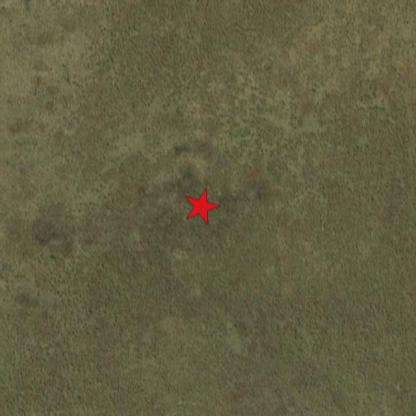T: (193, 198, 205, 208)
star: (184, 187, 222, 226)
